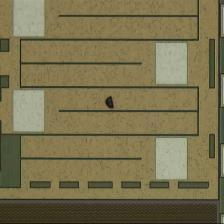PARTICLE: (105, 96, 118, 111)
